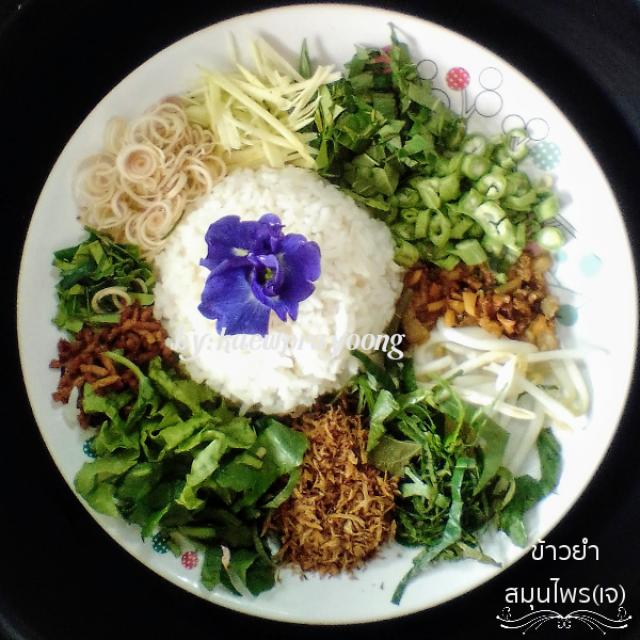carb: (159, 177, 393, 408)
rice salad: (44, 85, 518, 583)
vegetable: (243, 55, 576, 232), (95, 366, 273, 606), (375, 390, 537, 577)
